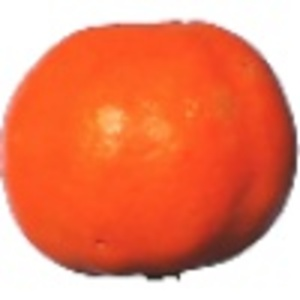tangerina: (1, 17, 300, 280)
